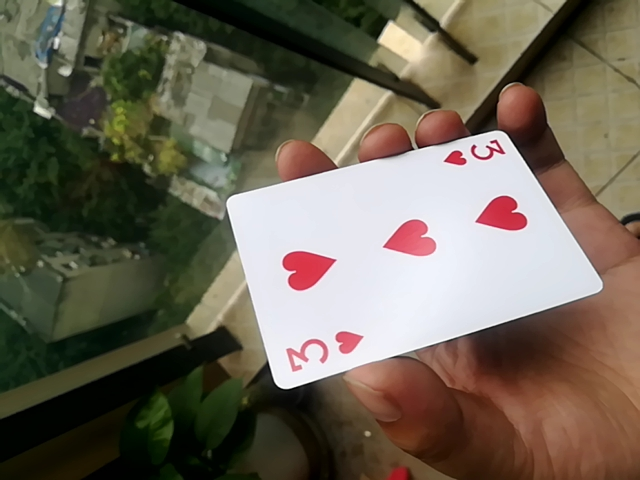hx 3: (221, 127, 603, 393)
